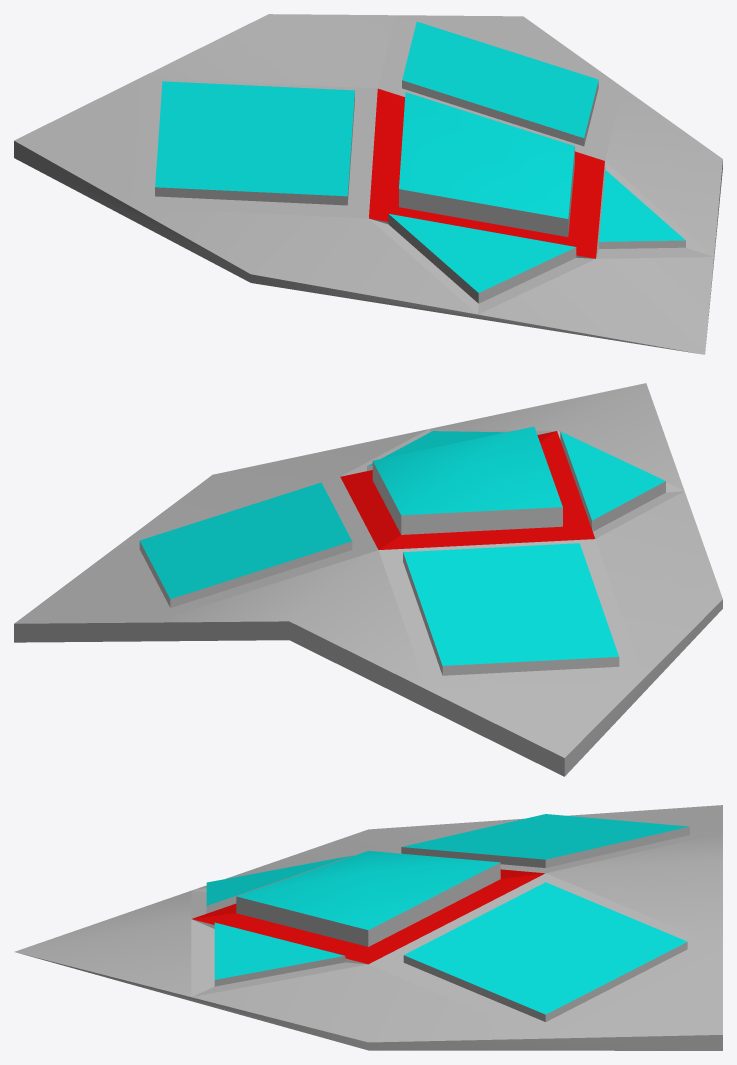
The model's file is Shield Burst.fbx.
The picture shows the model from 3 angles, top to bottom: view 1: azimuth 30°, elevation 25°; view 2: azimuth 150°, elevation 25°; view 3: azimuth 270°, elevation 25°; orthographic projection. The views are drawn at different scales.
Parts seen in each view (by area): view 1: pCube7; view 2: pCube7; view 3: pCube7.
Part boxes in pixels (x1,y1,x2,y2): pCube7: [14, 14, 722, 354]; pCube7: [14, 383, 722, 776]; pCube7: [14, 805, 722, 1050].
Size of the model in its own units: 5.35 by 1.44 by 6.87.
